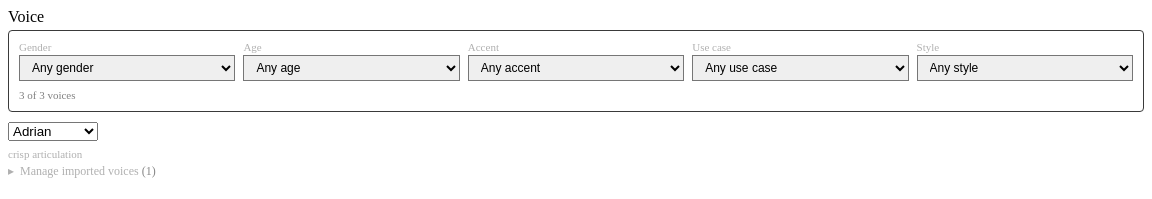
Test: VoiceLibrarySection facet filter › says so when a combination matches nothing but the selection
The image size is (1152, 199).
Select "Japanese" in the dropdown labelled "Accent" at (576, 68), box [468, 55, 684, 81]
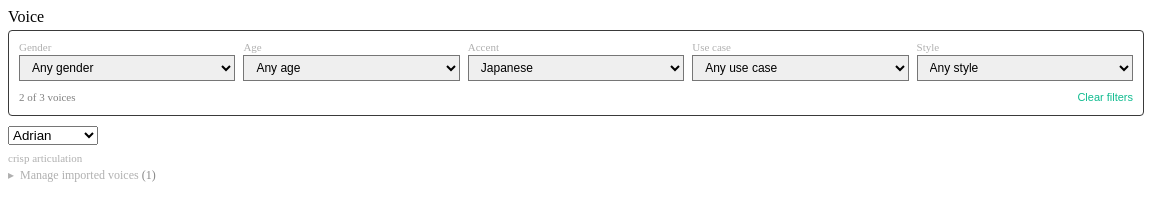
Select "Deep" in the dropdown labelled "Style" at (1025, 68), box [917, 55, 1133, 81]
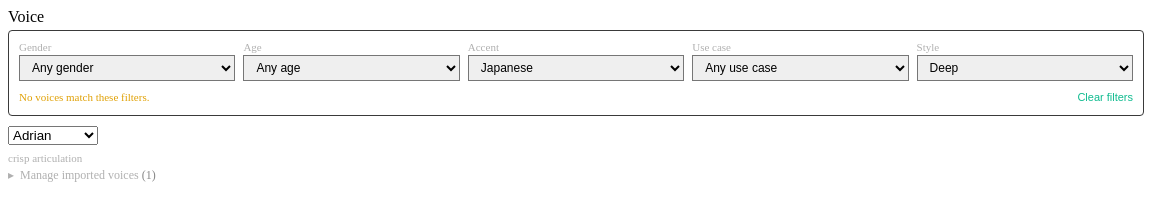
Result: the text "No voices match these filters." is shown at [19, 91, 149, 103]
